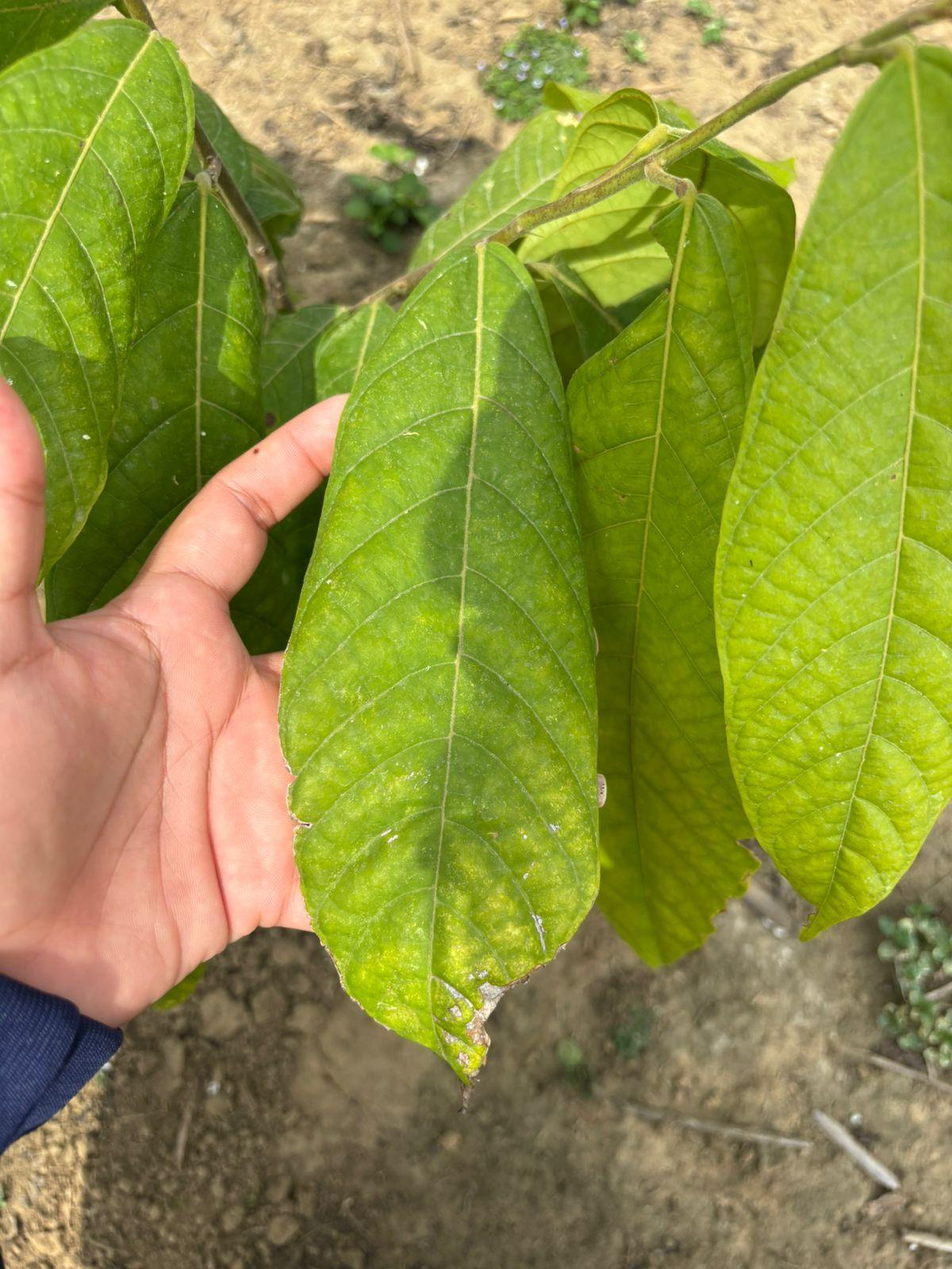Nitrogeno: (279, 246, 598, 1091), (716, 45, 951, 937)
